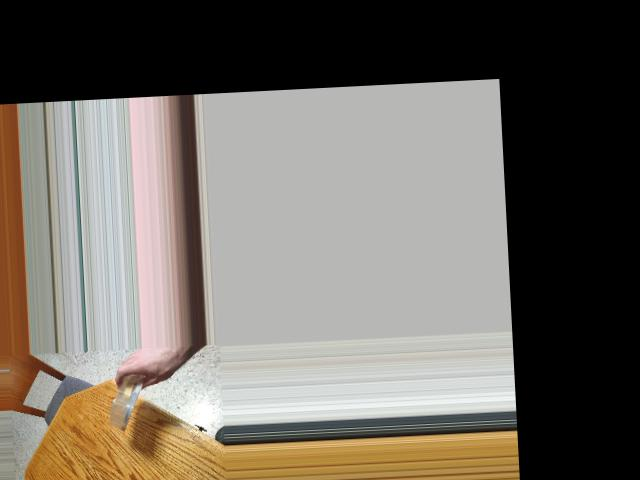cheese: (106, 366, 145, 434)
